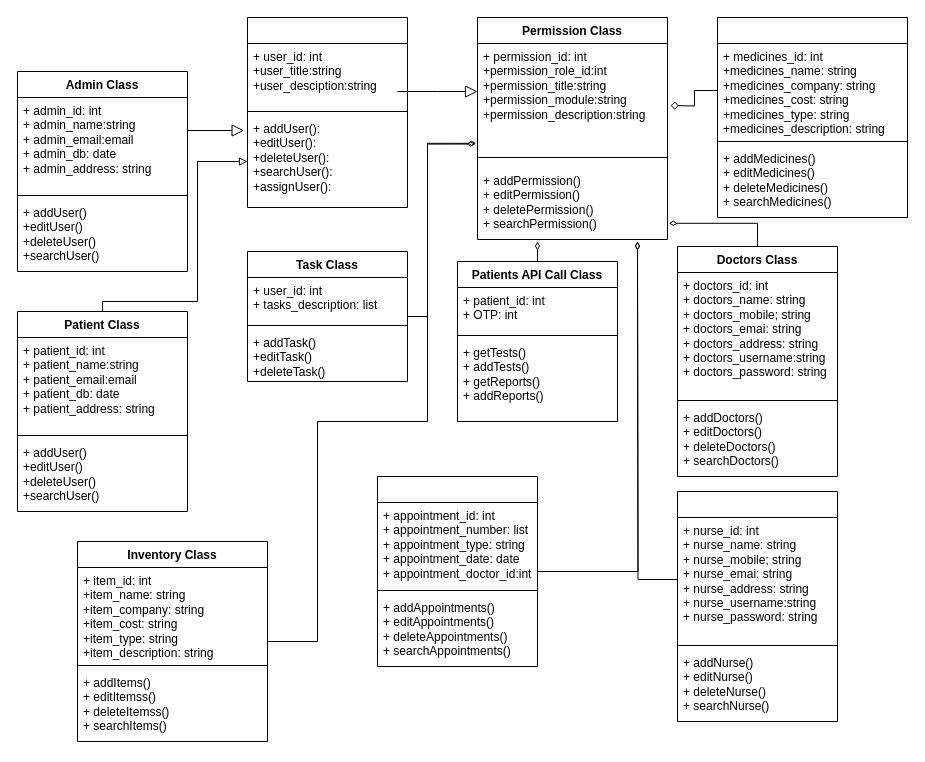
The diagram is 925 pixels wide and 762 high, and some of its shapes have lost their labels. The shapes that lost their labels are listed below. From the top down, each one's box as (x1, y1, x2, y2) in pixels, then its label:
(246, 16, 408, 208): User Class
(716, 16, 908, 218): Medicines Class
(376, 476, 538, 666): Appointment Class
(676, 490, 838, 722): Nurse Class
